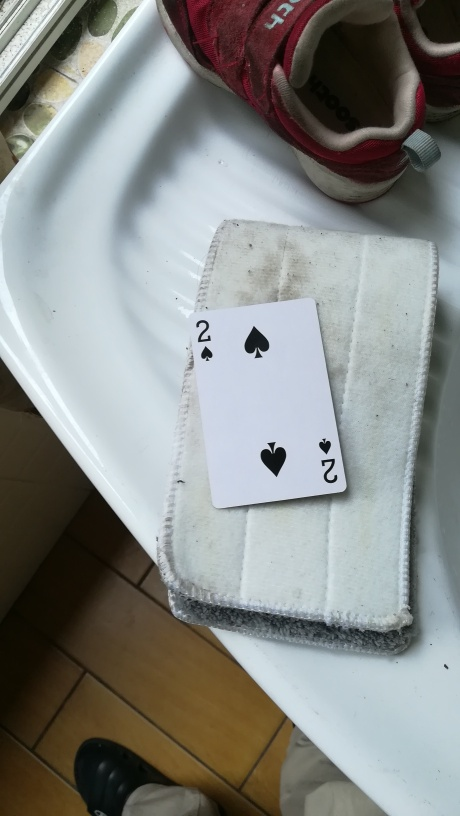ht 2: (180, 296, 349, 510)
